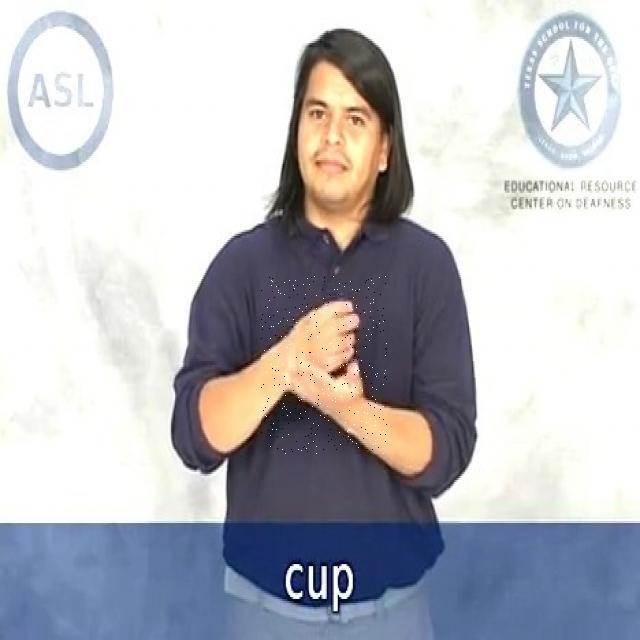cup: (262, 276, 388, 454)
